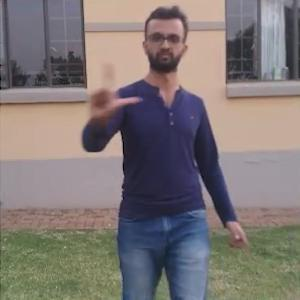land_hand: (83, 58, 145, 119)
